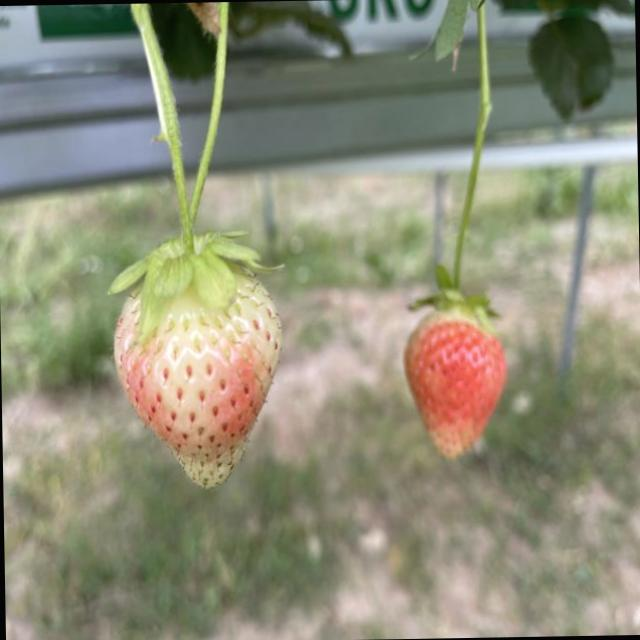stem: (109, 2, 261, 340), (414, 0, 493, 331)
strawberryR: (114, 275, 279, 485), (404, 312, 504, 456)
